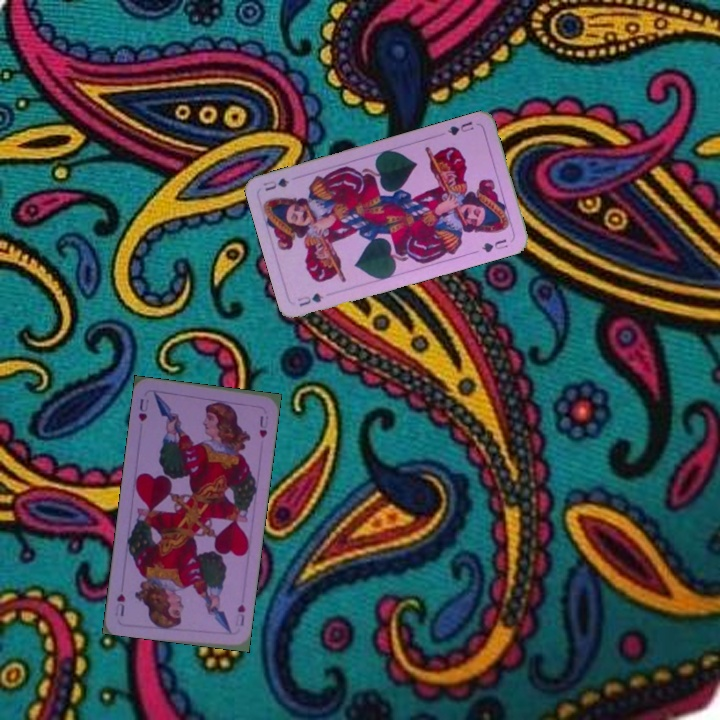GU: (443, 117, 476, 138), (293, 289, 326, 309)
HU: (134, 394, 151, 424), (231, 600, 248, 629)
